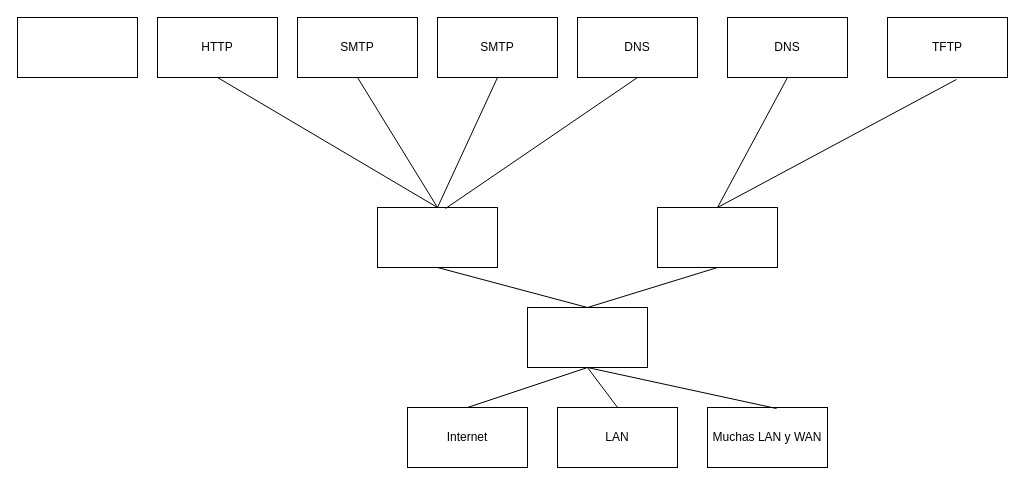
This 1025x485 diagram has some shape labels left out. The shapes that lost their labels are listed below. From the top down, each one's centre as x and y in pixels, then its label:
point (77, 47): FTP
point (437, 237): TCP
point (717, 237): UDP
point (587, 337): IP
